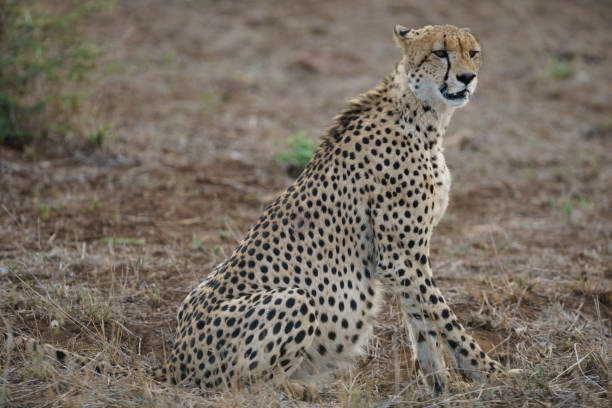cheetah: (380, 11, 496, 123)
